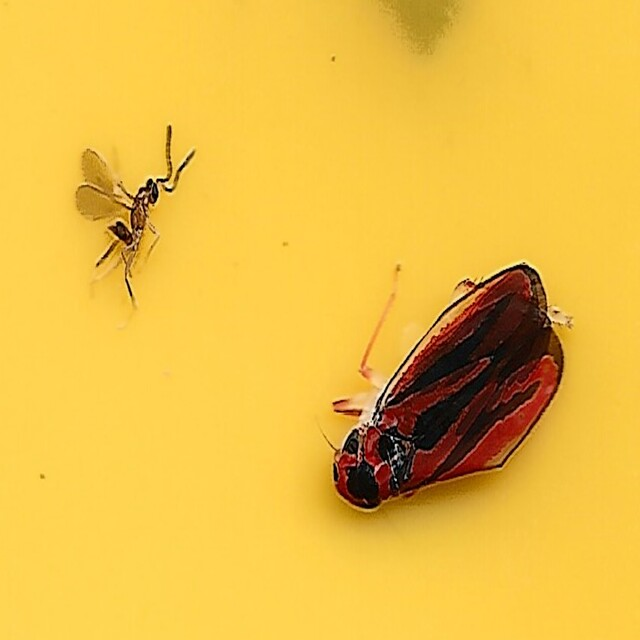Hemiptera: (329, 256, 565, 515)
Hymenoptera: (75, 125, 193, 308)
